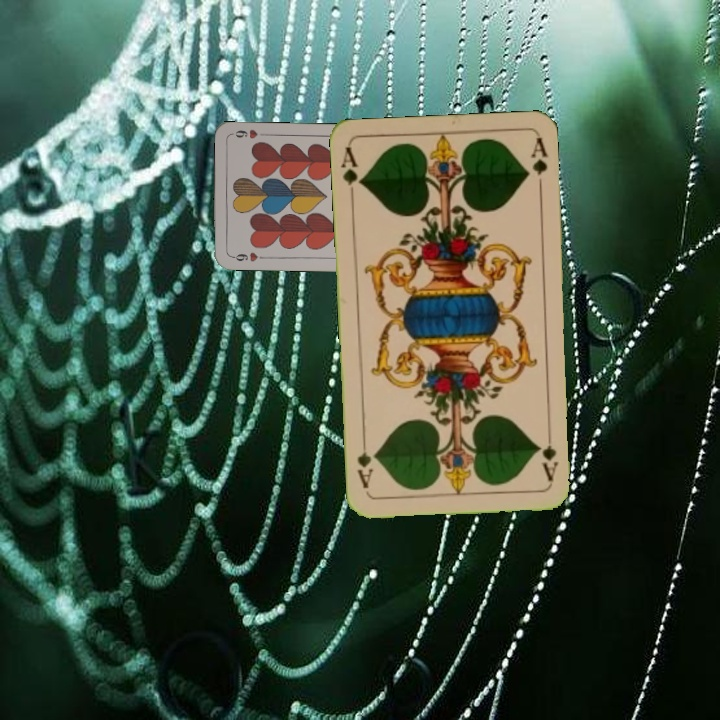GA: (337, 144, 365, 203), (537, 425, 561, 484)
H9: (227, 249, 268, 264)
